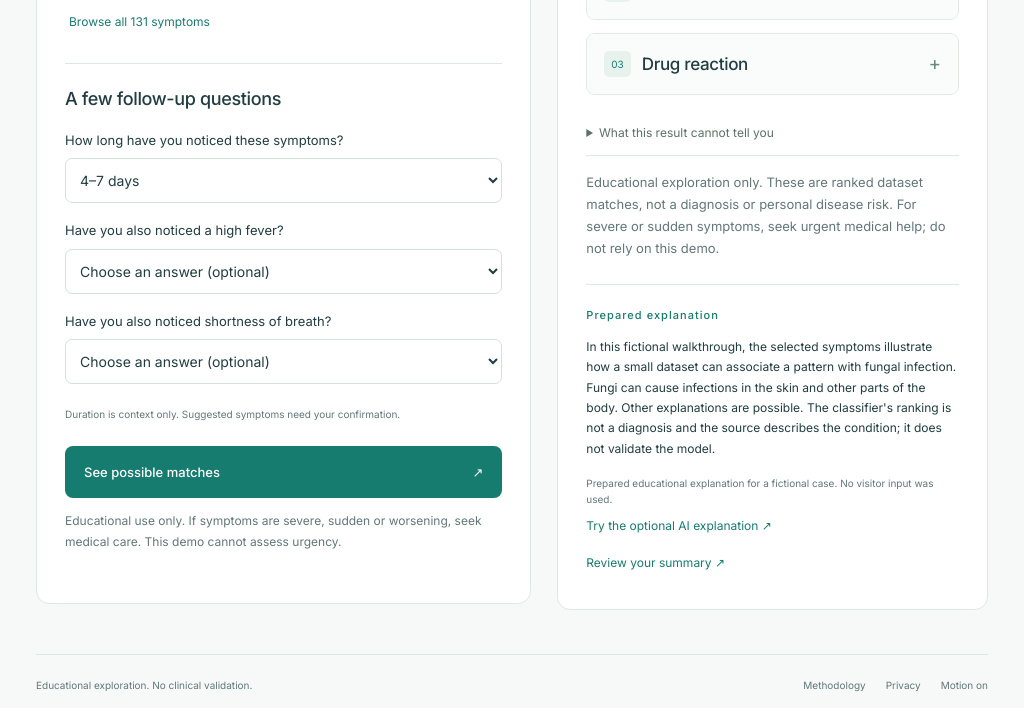
Test: health workspace › shows a truthful error when live assessment fails
(page scrolled)
Click the button "See possible matches ↗": click(152, 472) top-left (65, 446), bottom-right (502, 498)
(page scrolled)
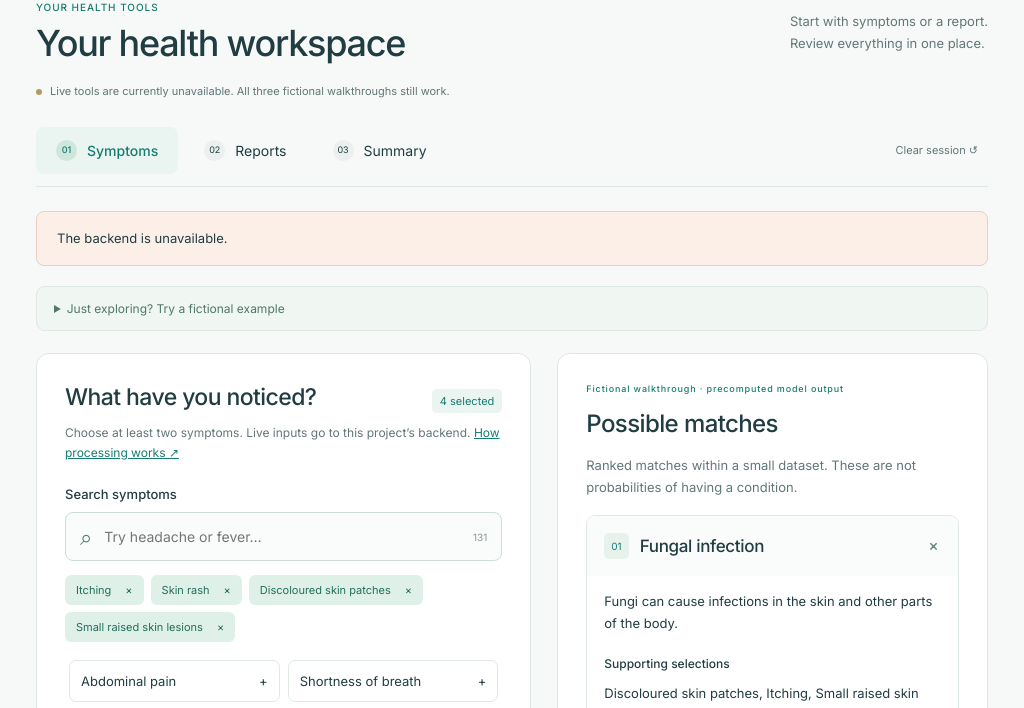
Expected: the message "The backend is unavailable." is shown, top-left (36, 211), bottom-right (988, 266)
